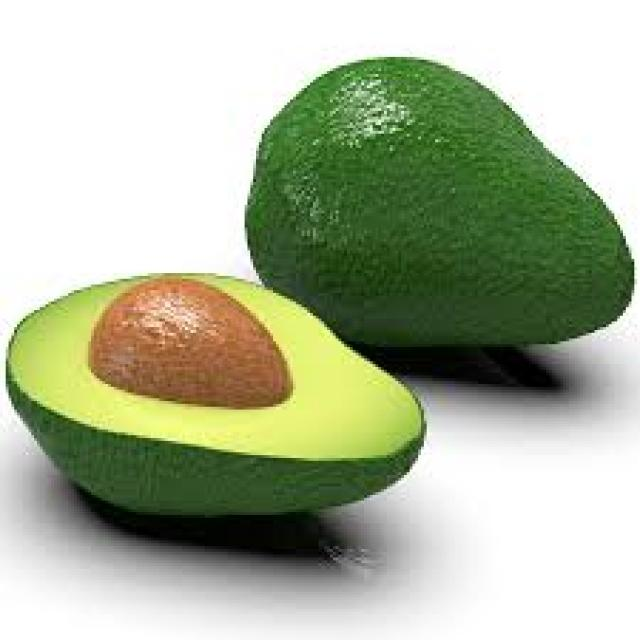avocado: (228, 22, 640, 383), (0, 252, 449, 578)
